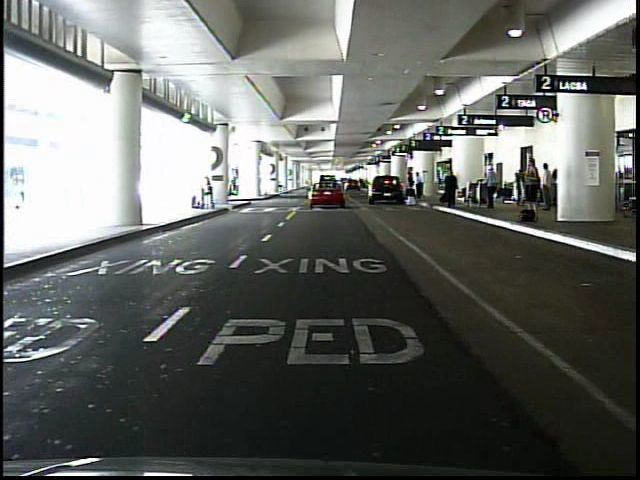person: (521, 155, 542, 211), (540, 162, 554, 212), (485, 164, 499, 211), (444, 168, 460, 209), (200, 173, 216, 211), (405, 170, 418, 205), (441, 166, 452, 204), (414, 170, 425, 199)
